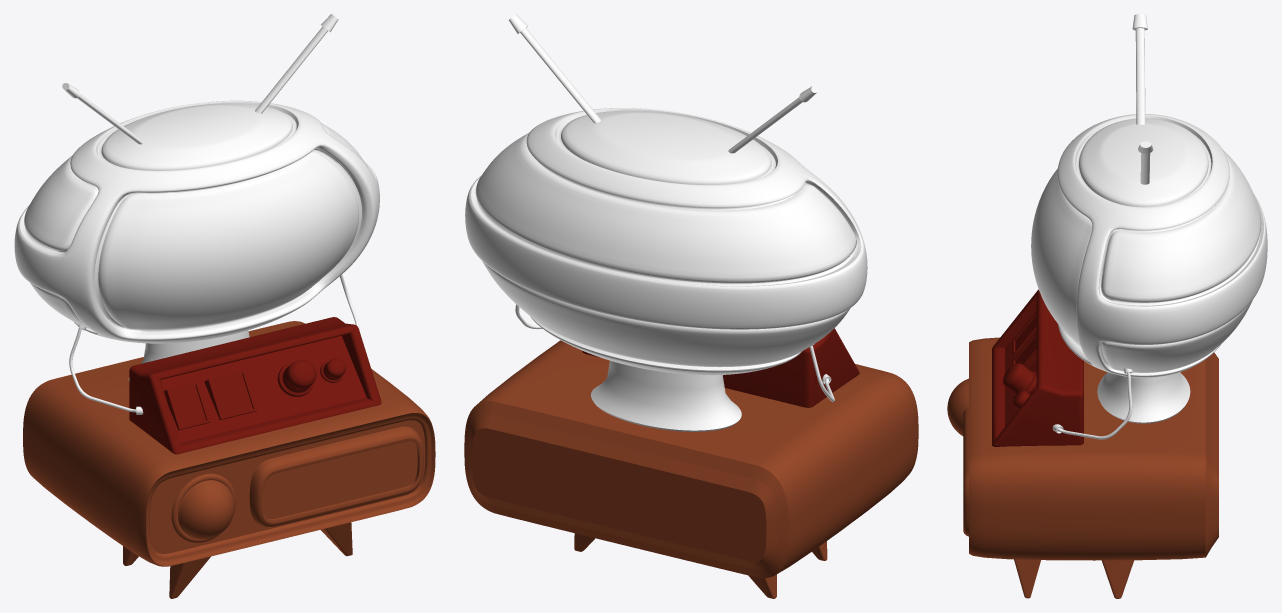
The model's file is Tele.fbx.
The picture shows the model from 3 angles, left to right: view 1: azimuth 30°, elevation 25°; view 2: azimuth 150°, elevation 25°; view 3: azimuth 270°, elevation 25°; orthographic projection. The views are drawn at different scales.
Visible parts, largest first — view 1: Sphere004, Box040, Box043, Box042, Sphere006, Cylinder055, Cylinder056, Cylinder057; view 2: Sphere004, Box040, Box043, Cylinder056, Cylinder057; view 3: Sphere004, Box040, Box043, Cylinder057, Sphere006, Cylinder055, Box042, Line030, Cylinder056.
Boxes of the visible parts, x1,y1,x2,y2 form: Sphere004: (14,100,379,381); Box040: (23,321,435,598); Box043: (129,317,381,454); Box042: (249,426,423,526); Sphere006: (171,473,236,542); Cylinder055: (277,360,316,396); Cylinder056: (255,14,338,113); Cylinder057: (62,83,143,144); Sphere004: (465,108,867,431); Box040: (464,340,918,598); Box043: (582,328,859,407); Cylinder056: (508,14,601,123); Cylinder057: (728,85,818,153); Sphere004: (1031,114,1267,423); Box040: (969,337,1218,598); Box043: (992,289,1083,446); Cylinder057: (1132,14,1147,124); Sphere006: (947,378,968,435); Cylinder055: (1003,363,1036,397); Box042: (963,408,968,536); Line030: (1057,372,1132,439); Cylinder056: (1138,141,1153,184).
Bounding box in the file's own units: 40.37 × 54.64 × 33.21.
